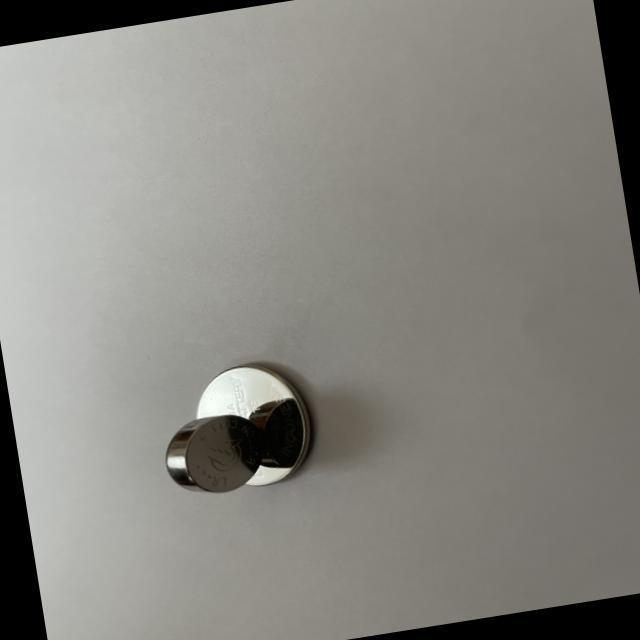COIN: (187, 358, 316, 494), (160, 410, 266, 500)
